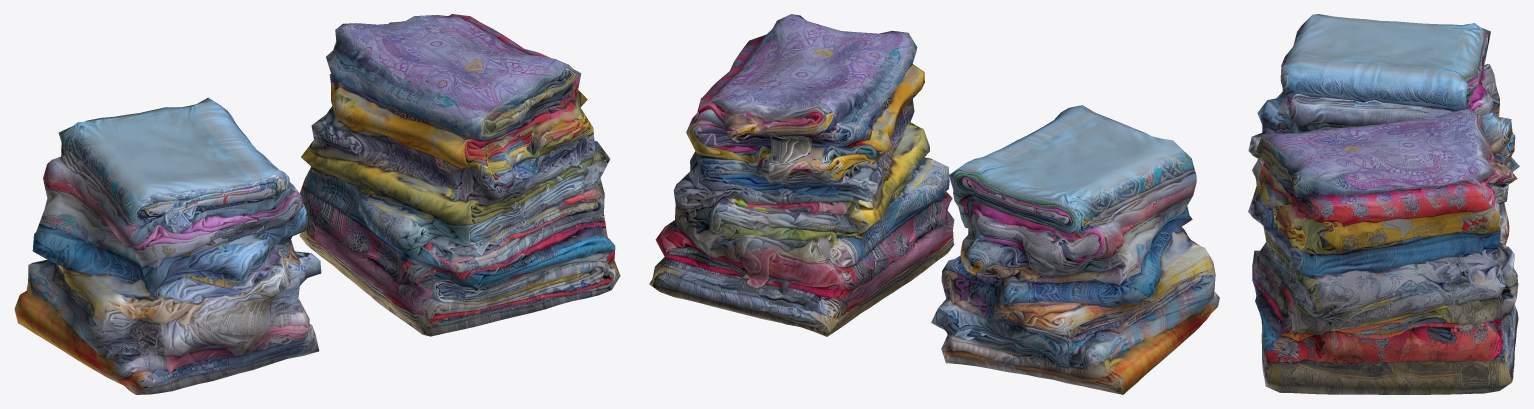
Rendered from PileofClothes2.DAE.
3 renders of one model, left to right at view 1: azimuth 30°, elevation 25°; view 2: azimuth 150°, elevation 25°; view 3: azimuth 270°, elevation 25°, orthographic. The views are drawn at different scales.
Visible parts, largest first — view 1: PileofClothes4, PileofClothes3; view 2: PileofClothes4, PileofClothes3; view 3: PileofClothes4, PileofClothes3.
Boxes of the visible parts, left/top/right/bottom form: PileofClothes4: left=299, top=14, right=620, bottom=336; PileofClothes3: left=14, top=97, right=321, bottom=394; PileofClothes4: left=649, top=14, right=954, bottom=336; PileofClothes3: left=931, top=105, right=1219, bottom=394; PileofClothes4: left=1248, top=108, right=1518, bottom=394; PileofClothes3: left=1248, top=14, right=1519, bottom=245.
Size of the model in its own units: 26.54 by 11.41 by 13.2.
